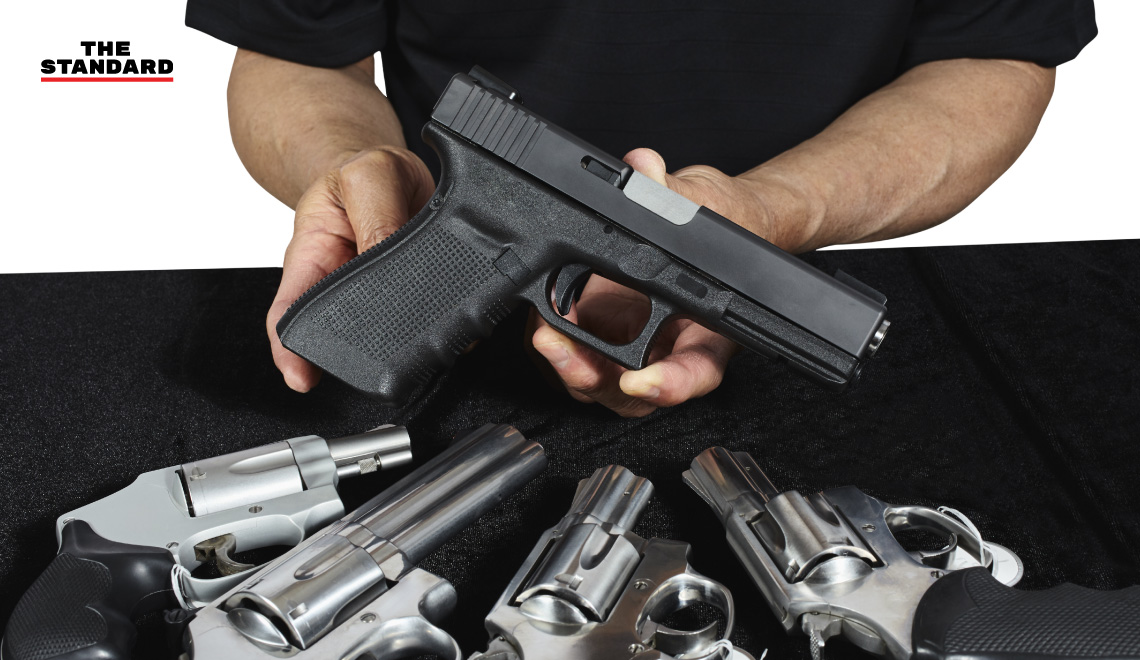gun: (269, 56, 905, 427)
